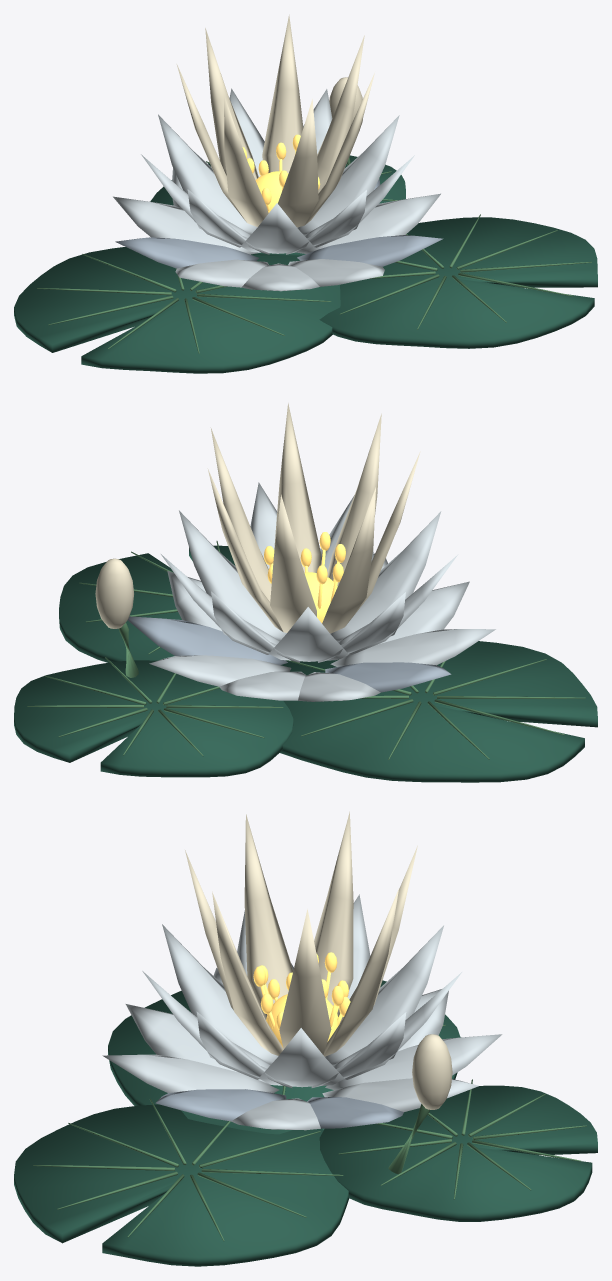
Rendered from SM_SP_StarLily_02.fbx.
The picture shows the model from 3 angles, top to bottom: view 1: azimuth 30°, elevation 25°; view 2: azimuth 150°, elevation 25°; view 3: azimuth 270°, elevation 25°; orthographic projection. The views are drawn at different scales.
Visible parts, largest first — view 1: SM_SP_StarLily_02; view 2: SM_SP_StarLily_02; view 3: SM_SP_StarLily_02.
Boxes of the visible parts, left/top/right/bottom form: SM_SP_StarLily_02: left=14, top=14, right=597, bottom=373; SM_SP_StarLily_02: left=14, top=403, right=597, bottom=782; SM_SP_StarLily_02: left=14, top=811, right=597, bottom=1266.
Bounding box in the file's own units: 0.9 × 0.7709 × 0.3858.
